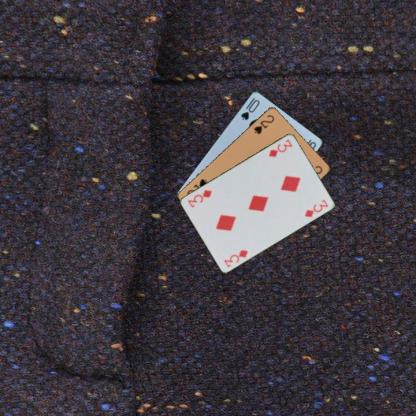10s: (238, 95, 261, 121)
2s: (251, 112, 276, 135)
3d: (266, 136, 294, 158), (221, 247, 249, 268)
